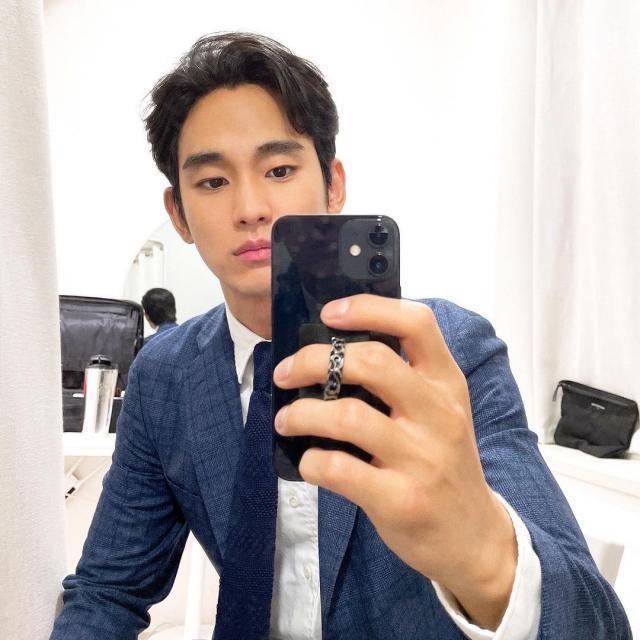phone: (272, 216, 401, 481)
